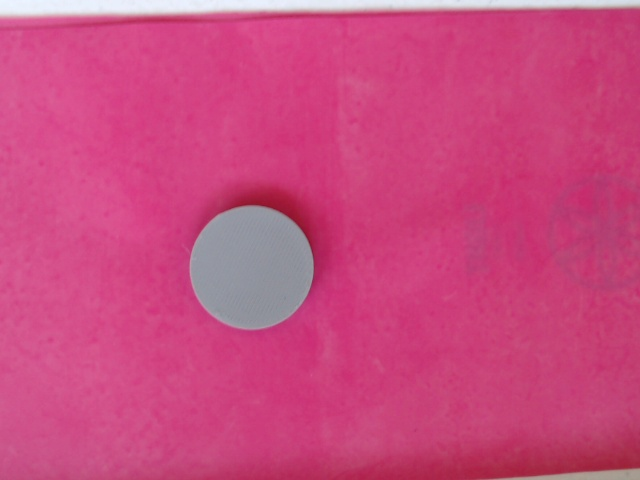NonDefective: (186, 203, 318, 332)
